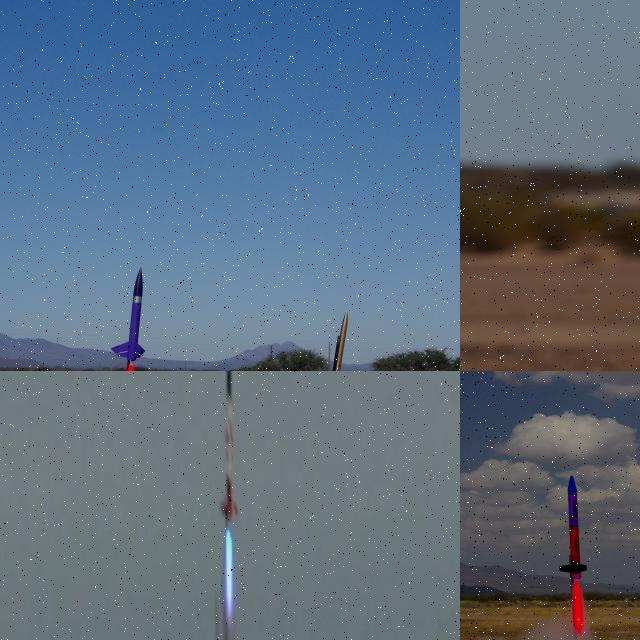Rocket: (219, 371, 240, 539), (111, 266, 147, 362), (560, 474, 588, 580), (317, 311, 352, 371)
